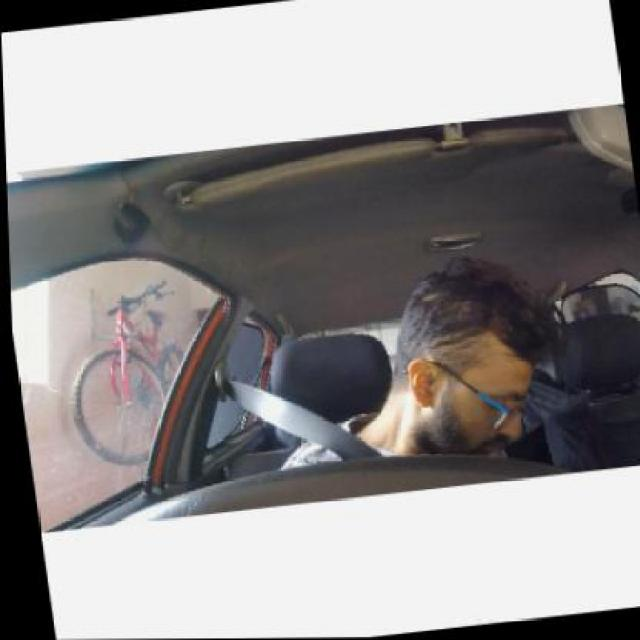drowsy: (388, 258, 550, 468)
